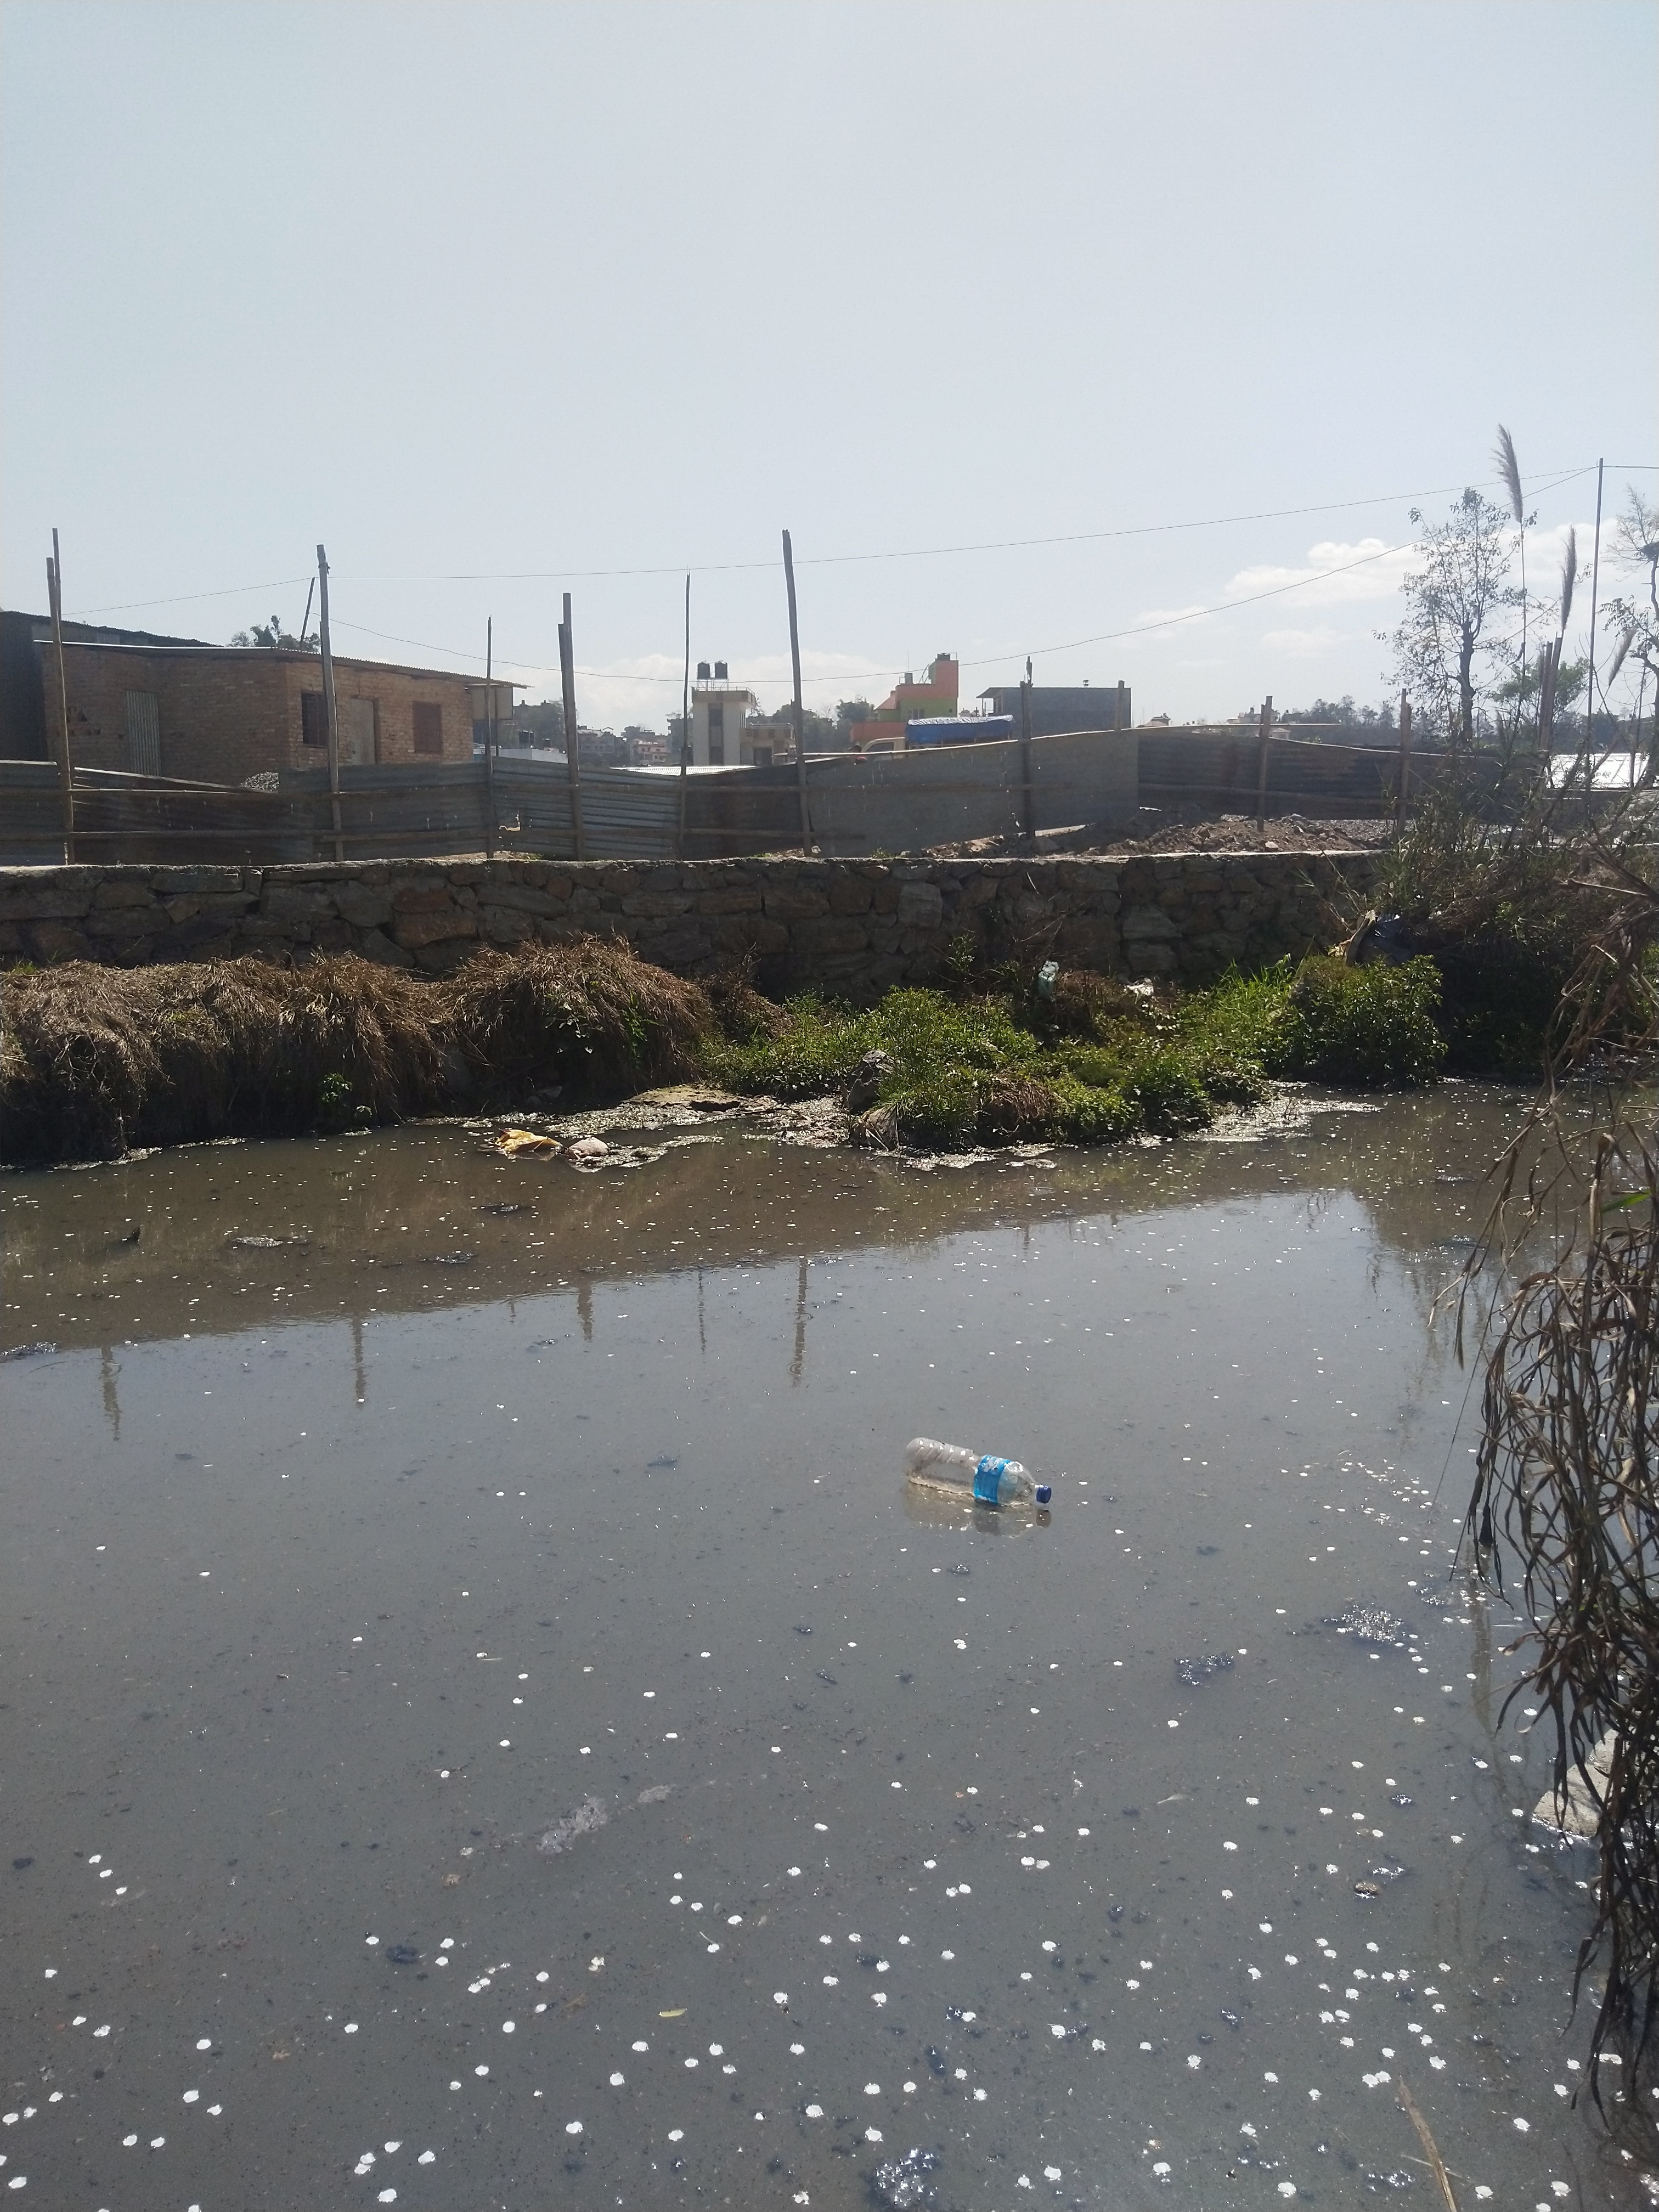Plastic Bottle: (903, 1437, 1051, 1507), (775, 1130, 796, 1139)
